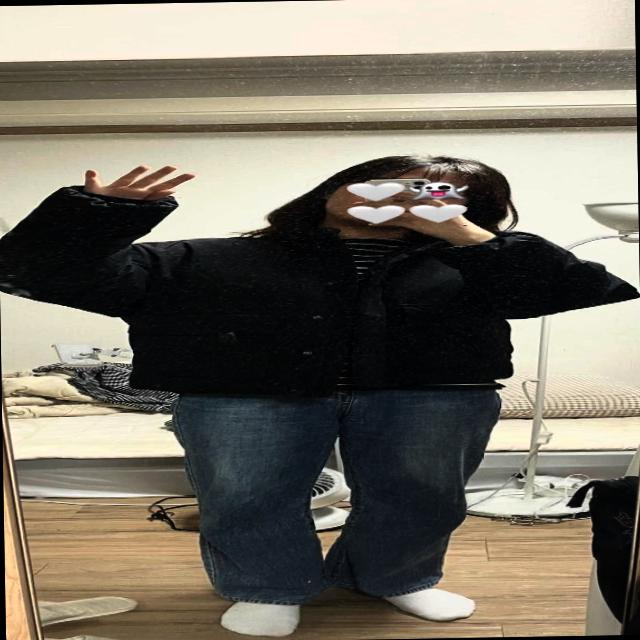denimpants: (176, 382, 501, 604)
padding: (0, 178, 637, 402)
